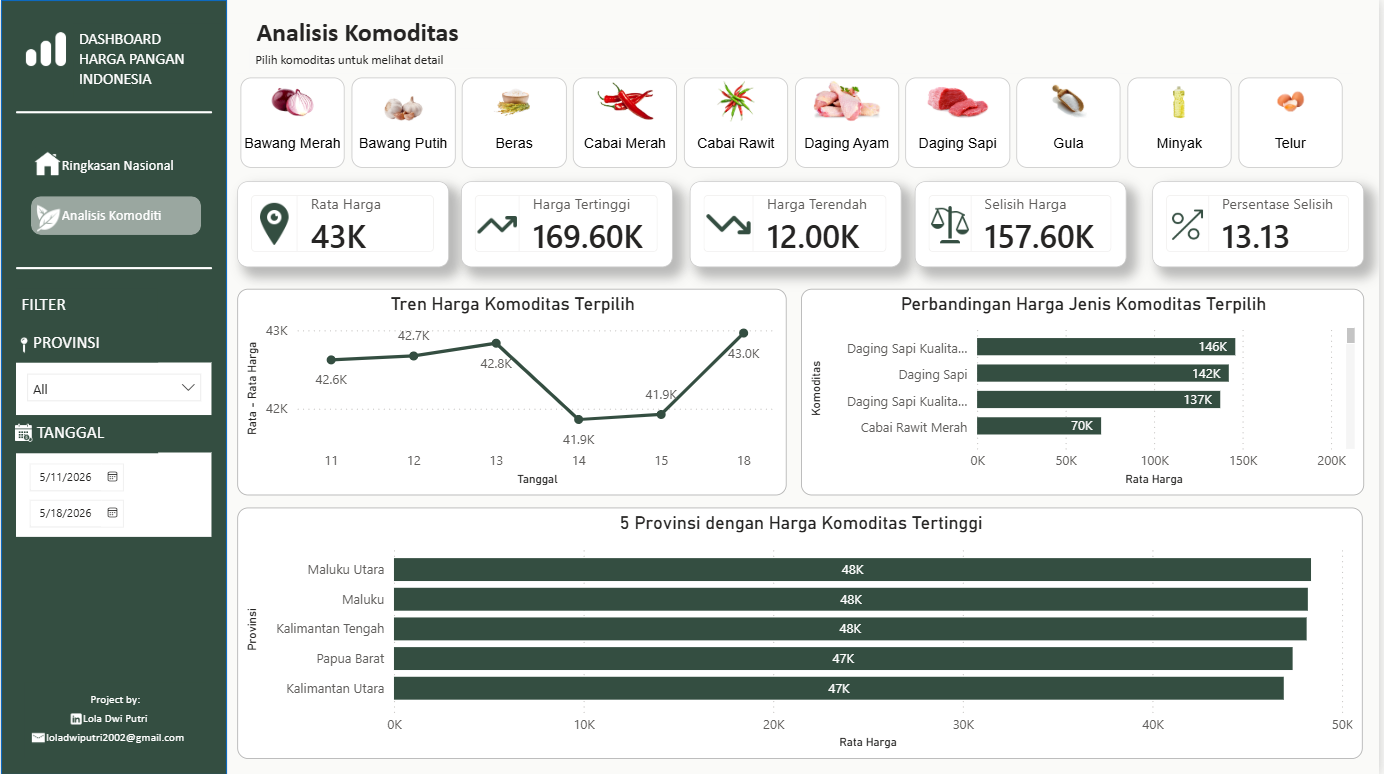

The page's visual inventory and layout, read from the dashboard file:
{"tool":"powerbi","page":{"name":"Analisis Komoditi","canvas":[1280,720],"ordinal":1},"visuals":[{"type":"shape","box":[0,0,210,720],"z":0},{"type":"pageNavigator","box":[27.6,136.3,158,83.2],"z":1000},{"type":"slicer","fields":{"Values":["IndonesiaComodityPrices.Provinsi"]},"box":[14.1,337.3,181.8,49.1],"z":2000},{"type":"slicer","fields":{"Values":["IndonesiaComodityPrices.Tanggal"]},"box":[14.1,420.9,181.8,78.2],"z":3000},{"type":"textbox","title":"DASHBOARD HARGA PANGAN INDONESIA","box":[67.4,21.7,137.5,68.8],"z":4000},{"type":"textbox","box":[232,10,528,35.3],"z":5000},{"type":"textbox","box":[230.7,45.3,452.7,18.7],"z":6000},{"type":"image","box":[14.3,21.7,53.1,47.1],"z":7000},{"type":"shape","box":[14.3,63.9,182.2,80.8],"z":8000},{"type":"textbox","box":[14.3,267.8,131.5,35],"z":9000},{"type":"shape","box":[14.3,232.8,182.2,31.4],"z":10000},{"type":"textbox","box":[14.1,303.6,131.8,33.6],"z":11000},{"type":"textbox","box":[14.1,386.4,131.8,34.5],"z":12000},{"type":"image","box":[31.4,139.5,23.6,26.4],"z":13000},{"type":"image","box":[28.6,185.5,28.6,34.1],"z":14000},{"type":"image","box":[14.1,311.8,15,17.3],"z":15000},{"type":"image","box":[11.8,393.6,18.6,16.8],"z":16000},{"type":"textbox","box":[21.7,633.7,168.3,69.7],"z":17000},{"type":"image","box":[63.4,662.4,12.4,12.1],"z":18000},{"type":"image","box":[27.7,679.6,14.2,11.9],"z":19000},{"type":"ChicletSlicer1448559807354","fields":{"Category":["IndonesiaComodityPrices.Kategori Komoditas"],"Image":["IndonesiaComodityPrices.Custom"]},"box":[220,68.6,1035.7,94.3],"z":20000},{"type":"cardVisual","fields":{"Data":["IndonesiaComodityPrices.Rata Harga"]},"box":[219.6,168.9,196.6,79.6],"z":21000},{"type":"cardVisual","fields":{"Data":["IndonesiaComodityPrices.Harga Tertinggi"]},"box":[427.1,168.9,196.6,79.6],"z":22000},{"type":"cardVisual","fields":{"Data":["IndonesiaComodityPrices.Harga Terendah"]},"box":[639.4,168.9,196.6,79.6],"z":23000},{"type":"cardVisual","fields":{"Data":["IndonesiaComodityPrices.Selisih Harga"]},"box":[849.3,168.9,196.6,79.6],"z":24000},{"type":"cardVisual","fields":{"Data":["IndonesiaComodityPrices.Persentase Selisih"]},"box":[1070.1,168.9,196.6,79.6],"z":25000},{"type":"lineChart","title":"Tren Harga Komoditas Terpilih","fields":{"Category":["IndonesiaComodityPrices.Tanggal.Variation.Date Hierarchy.Day"],"Y":["IndonesiaComodityPrices.Rata Harga"]},"box":[219.6,267.8,510.3,191.8],"z":26000},{"type":"barChart","title":"Perbandingan Harga Jenis Komoditas Terpilih","fields":{"Category":["IndonesiaComodityPrices.Komoditas"],"Y":["IndonesiaComodityPrices.Rata Harga"]},"box":[743.2,267.8,523.6,191.8],"z":28000},{"type":"clusteredBarChart","title":"5 Provinsi dengan Harga Komoditas Tertinggi","fields":{"Category":["IndonesiaComodityPrices.Provinsi"],"Y":["IndonesiaComodityPrices.Rata Harga"]},"box":[220,471.1,1045.6,233.3],"z":28001}]}

Visuals, with their boxes on the page's 1280x720 design canvas (x1, y1, x2, y2). These are canvas units, not pixel positions in the 1384x774 screenshot, which may show the page scaled, cropped or inside an application window:
shape: x1=0, y1=0, x2=210, y2=720
pageNavigator: x1=28, y1=136, x2=186, y2=220
slicer - IndonesiaComodityPrices.Provinsi: x1=14, y1=337, x2=196, y2=386
slicer - IndonesiaComodityPrices.Tanggal: x1=14, y1=421, x2=196, y2=499
"DASHBOARD HARGA PANGAN INDONESIA" textbox: x1=67, y1=22, x2=205, y2=90
textbox: x1=232, y1=10, x2=760, y2=45
textbox: x1=231, y1=45, x2=683, y2=64
image: x1=14, y1=22, x2=67, y2=69
shape: x1=14, y1=64, x2=196, y2=145
textbox: x1=14, y1=268, x2=146, y2=303
shape: x1=14, y1=233, x2=196, y2=264
textbox: x1=14, y1=304, x2=146, y2=337
textbox: x1=14, y1=386, x2=146, y2=421
image: x1=31, y1=140, x2=55, y2=166
image: x1=29, y1=186, x2=57, y2=220
image: x1=14, y1=312, x2=29, y2=329
image: x1=12, y1=394, x2=30, y2=410
textbox: x1=22, y1=634, x2=190, y2=703
image: x1=63, y1=662, x2=76, y2=674
image: x1=28, y1=680, x2=42, y2=692
ChicletSlicer1448559807354 - IndonesiaComodityPrices.Kategori Komoditas x IndonesiaComodityPrices.Custom: x1=220, y1=69, x2=1256, y2=163
cardVisual - IndonesiaComodityPrices.Rata Harga: x1=220, y1=169, x2=416, y2=248
cardVisual - IndonesiaComodityPrices.Harga Tertinggi: x1=427, y1=169, x2=624, y2=248
cardVisual - IndonesiaComodityPrices.Harga Terendah: x1=639, y1=169, x2=836, y2=248
cardVisual - IndonesiaComodityPrices.Selisih Harga: x1=849, y1=169, x2=1046, y2=248
cardVisual - IndonesiaComodityPrices.Persentase Selisih: x1=1070, y1=169, x2=1267, y2=248
"Tren Harga Komoditas Terpilih" lineChart: x1=220, y1=268, x2=730, y2=460
"Perbandingan Harga Jenis Komoditas Terpilih" barChart: x1=743, y1=268, x2=1267, y2=460
"5 Provinsi dengan Harga Komoditas Tertinggi" clusteredBarChart: x1=220, y1=471, x2=1266, y2=704
